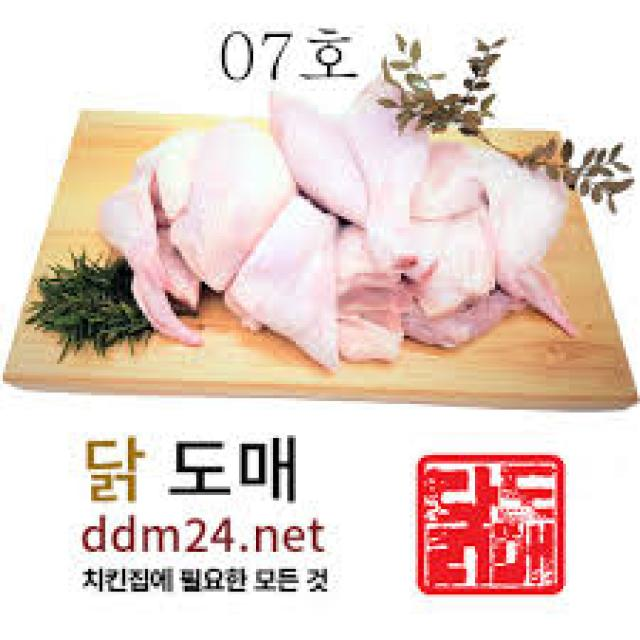chicken: (104, 119, 287, 375), (395, 134, 566, 348), (266, 91, 429, 271)
